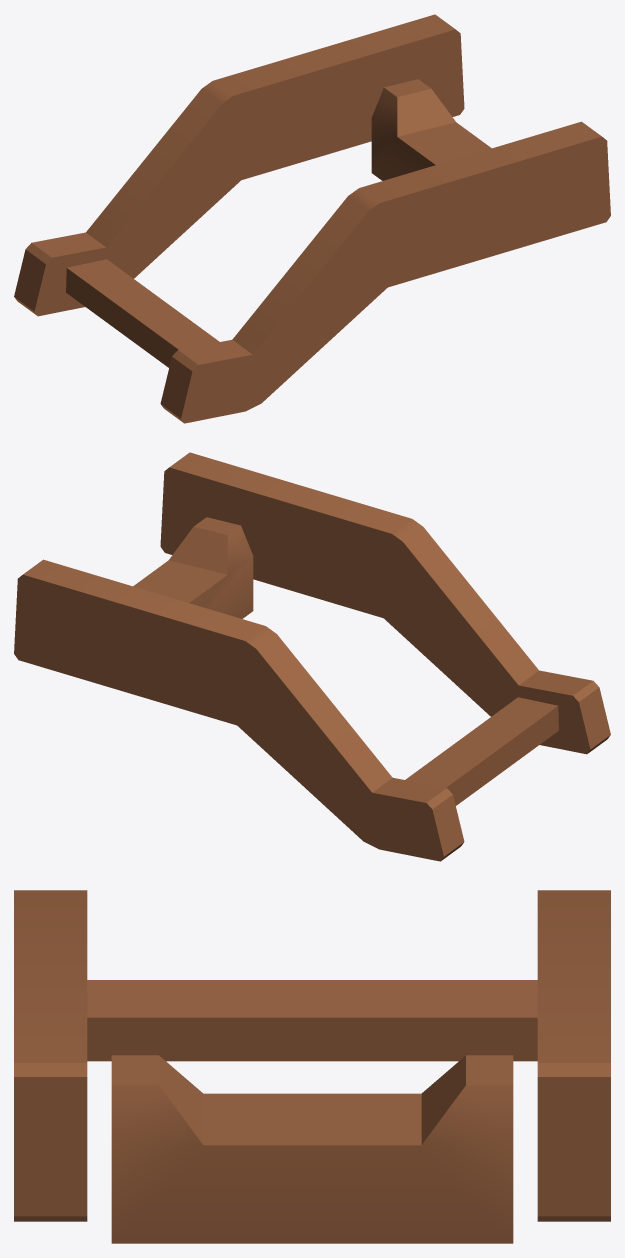
The model's file is Cannon_trolley.glb.
3 views of the same model, one above another, from view 1: azimuth 30°, elevation 25°; view 2: azimuth 150°, elevation 25°; view 3: azimuth 270°, elevation 25° (orthographic). The views are drawn at different scales.
Visible parts, largest first — view 1: Cannon_trolley; view 2: Cannon_trolley; view 3: Cannon_trolley.
Boxes of the visible parts, left/top/right/bottom form: Cannon_trolley: left=14, top=14, right=610, bottom=423; Cannon_trolley: left=14, top=452, right=610, bottom=861; Cannon_trolley: left=14, top=890, right=610, bottom=1243.
Bounding box in the file's own units: 3.86 × 1.61 × 2.6.
